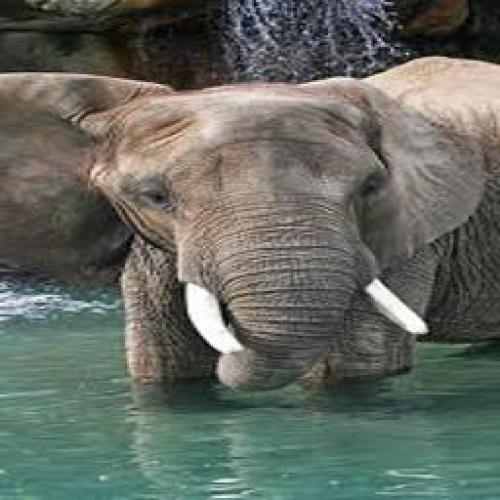african_elephant-endangered: (29, 70, 463, 392)
